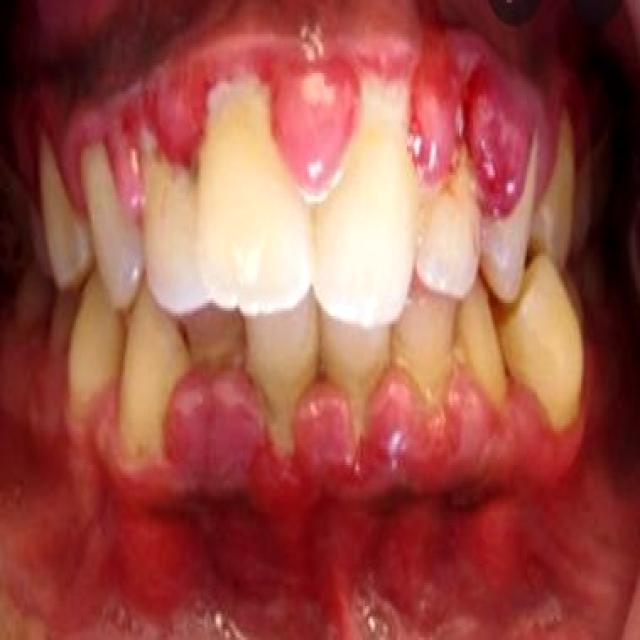gingivitis: (19, 44, 583, 209), (79, 363, 583, 504)
